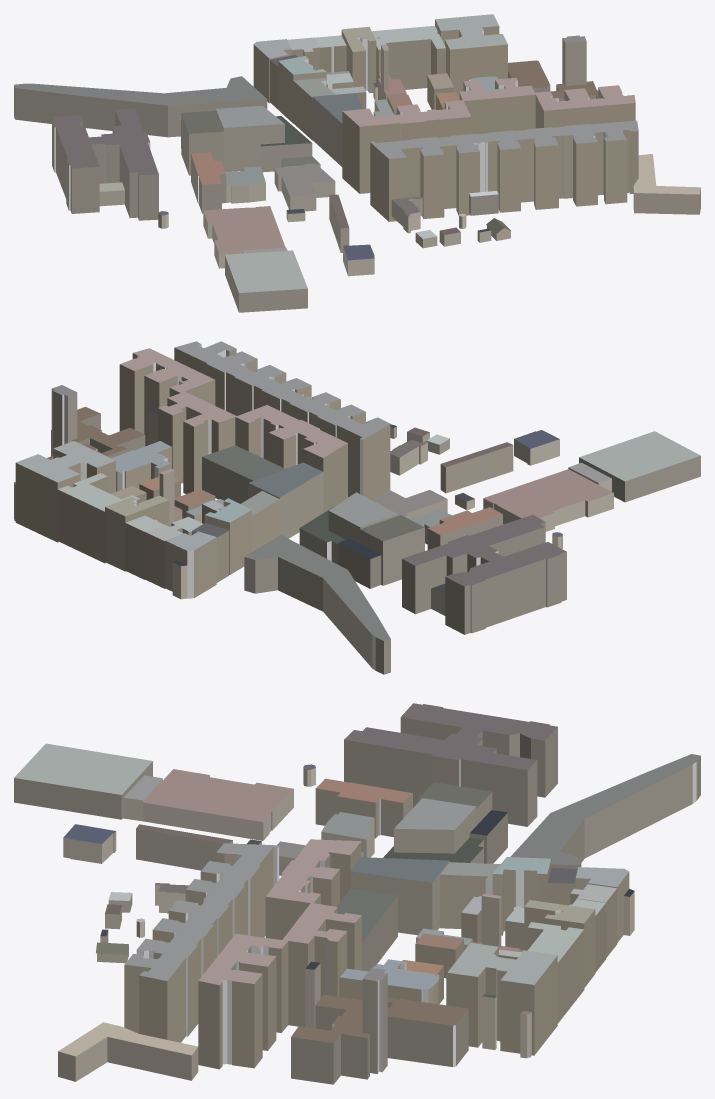
3 views of the same model, one above another, from view 1: azimuth 30°, elevation 25°; view 2: azimuth 150°, elevation 25°; view 3: azimuth 270°, elevation 25° (orthographic). The views are drawn at different scales.
Parts seen in each view (by area): view 1: tuile; view 2: tuile; view 3: tuile.
Boxes of the visible parts, x1,y1,x2,y2 form: tuile: (14,14,700,312); tuile: (14,341,700,674); tuile: (14,703,700,1084).
Bounding box in the file's own units: 269 × 41.37 × 250.
